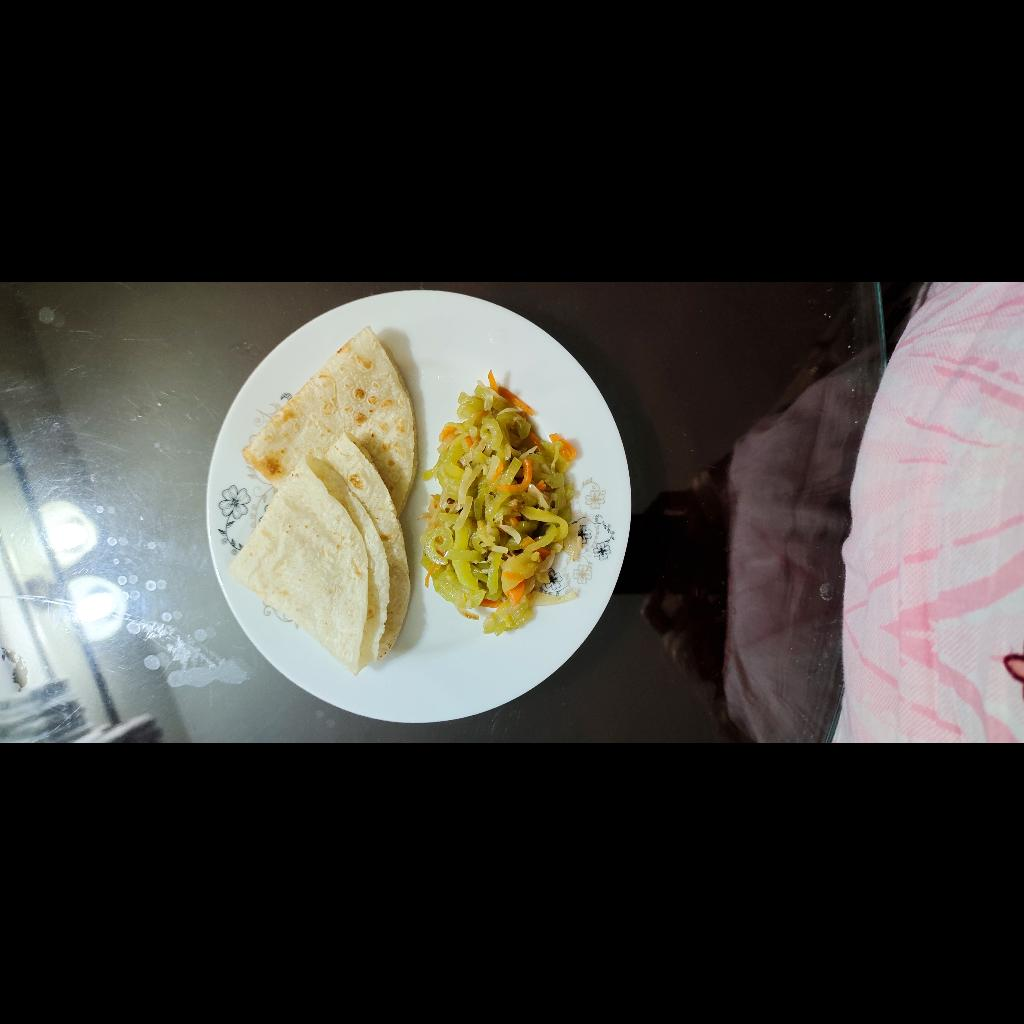chichinga-vaji: (107, 700, 374, 863)
ruti: (72, 507, 418, 701)
